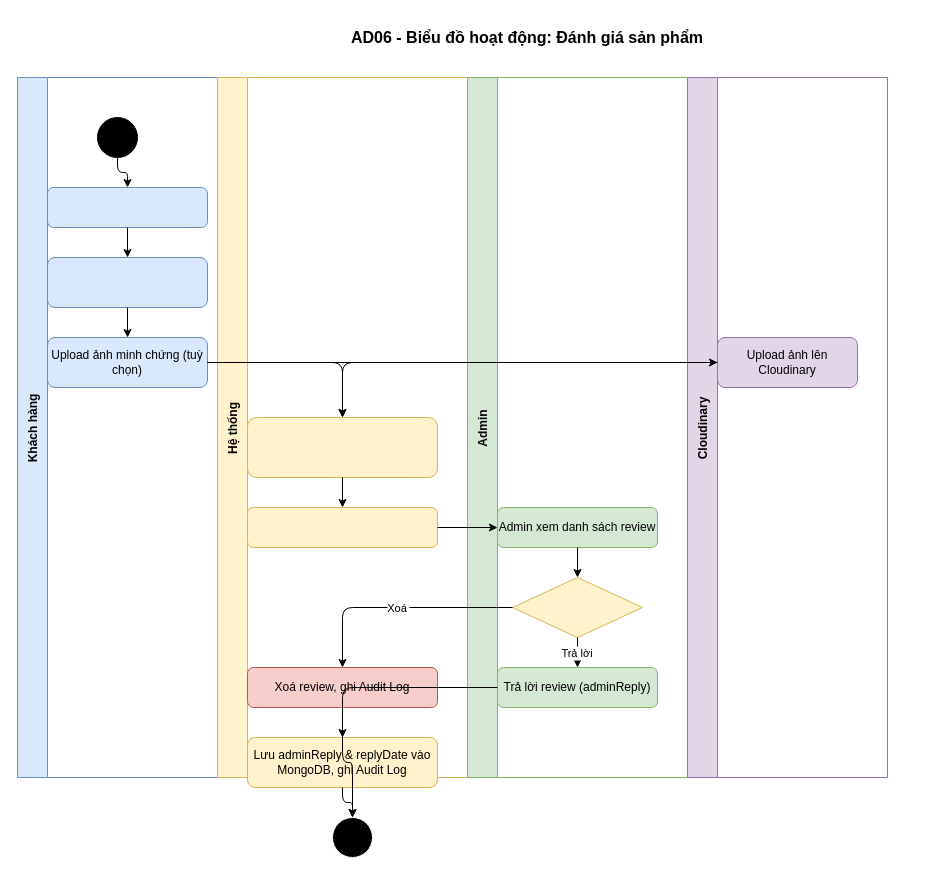
Some shapes in this 945 by 875 pixel diagram are drawn without their labels. The centre of each missing label's shape, as x and y in pixels:
Hiển thị review trên trang sản phẩm: the point at 342,527
Lưu review vào MongoDB (userId, productId, rating, comment, images): the point at 342,447
Nhập rating (1-5 sao) & bình luận: the point at 127,282
Thao tác?: the point at 577,607
Xem trang sản phẩm: the point at 127,207
